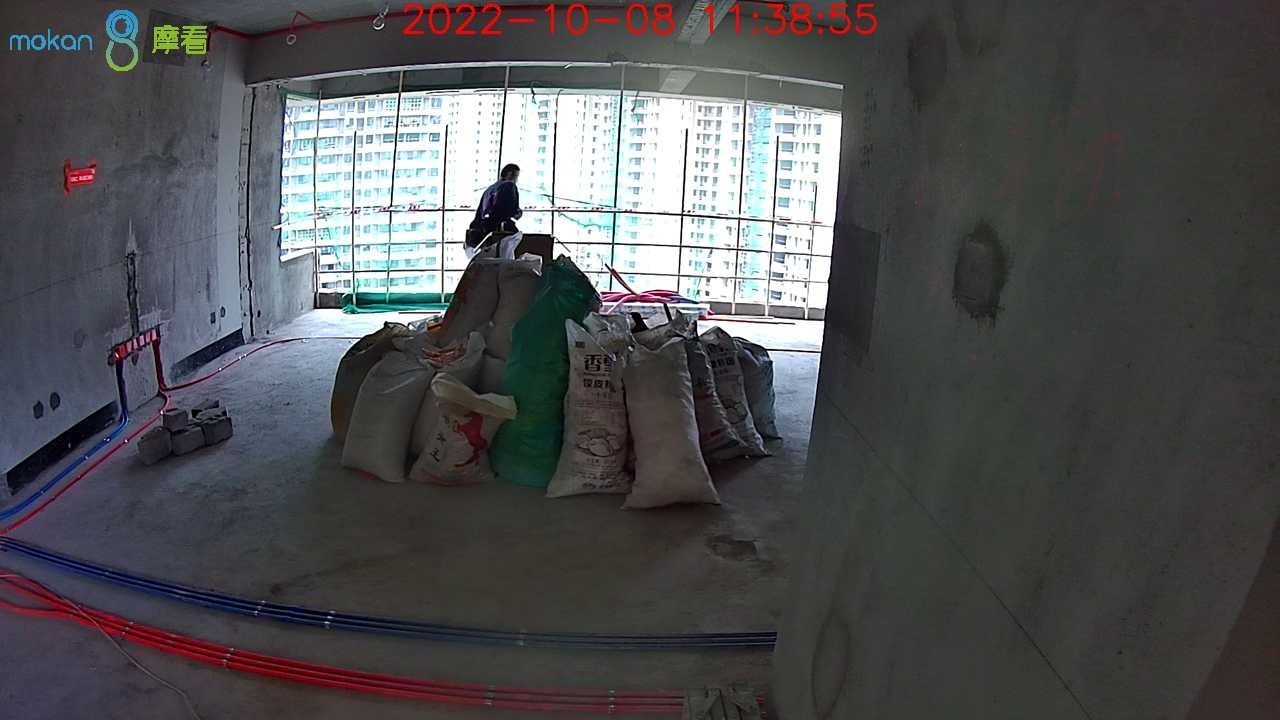people: (470, 164, 523, 234)
window: (279, 88, 842, 309)
